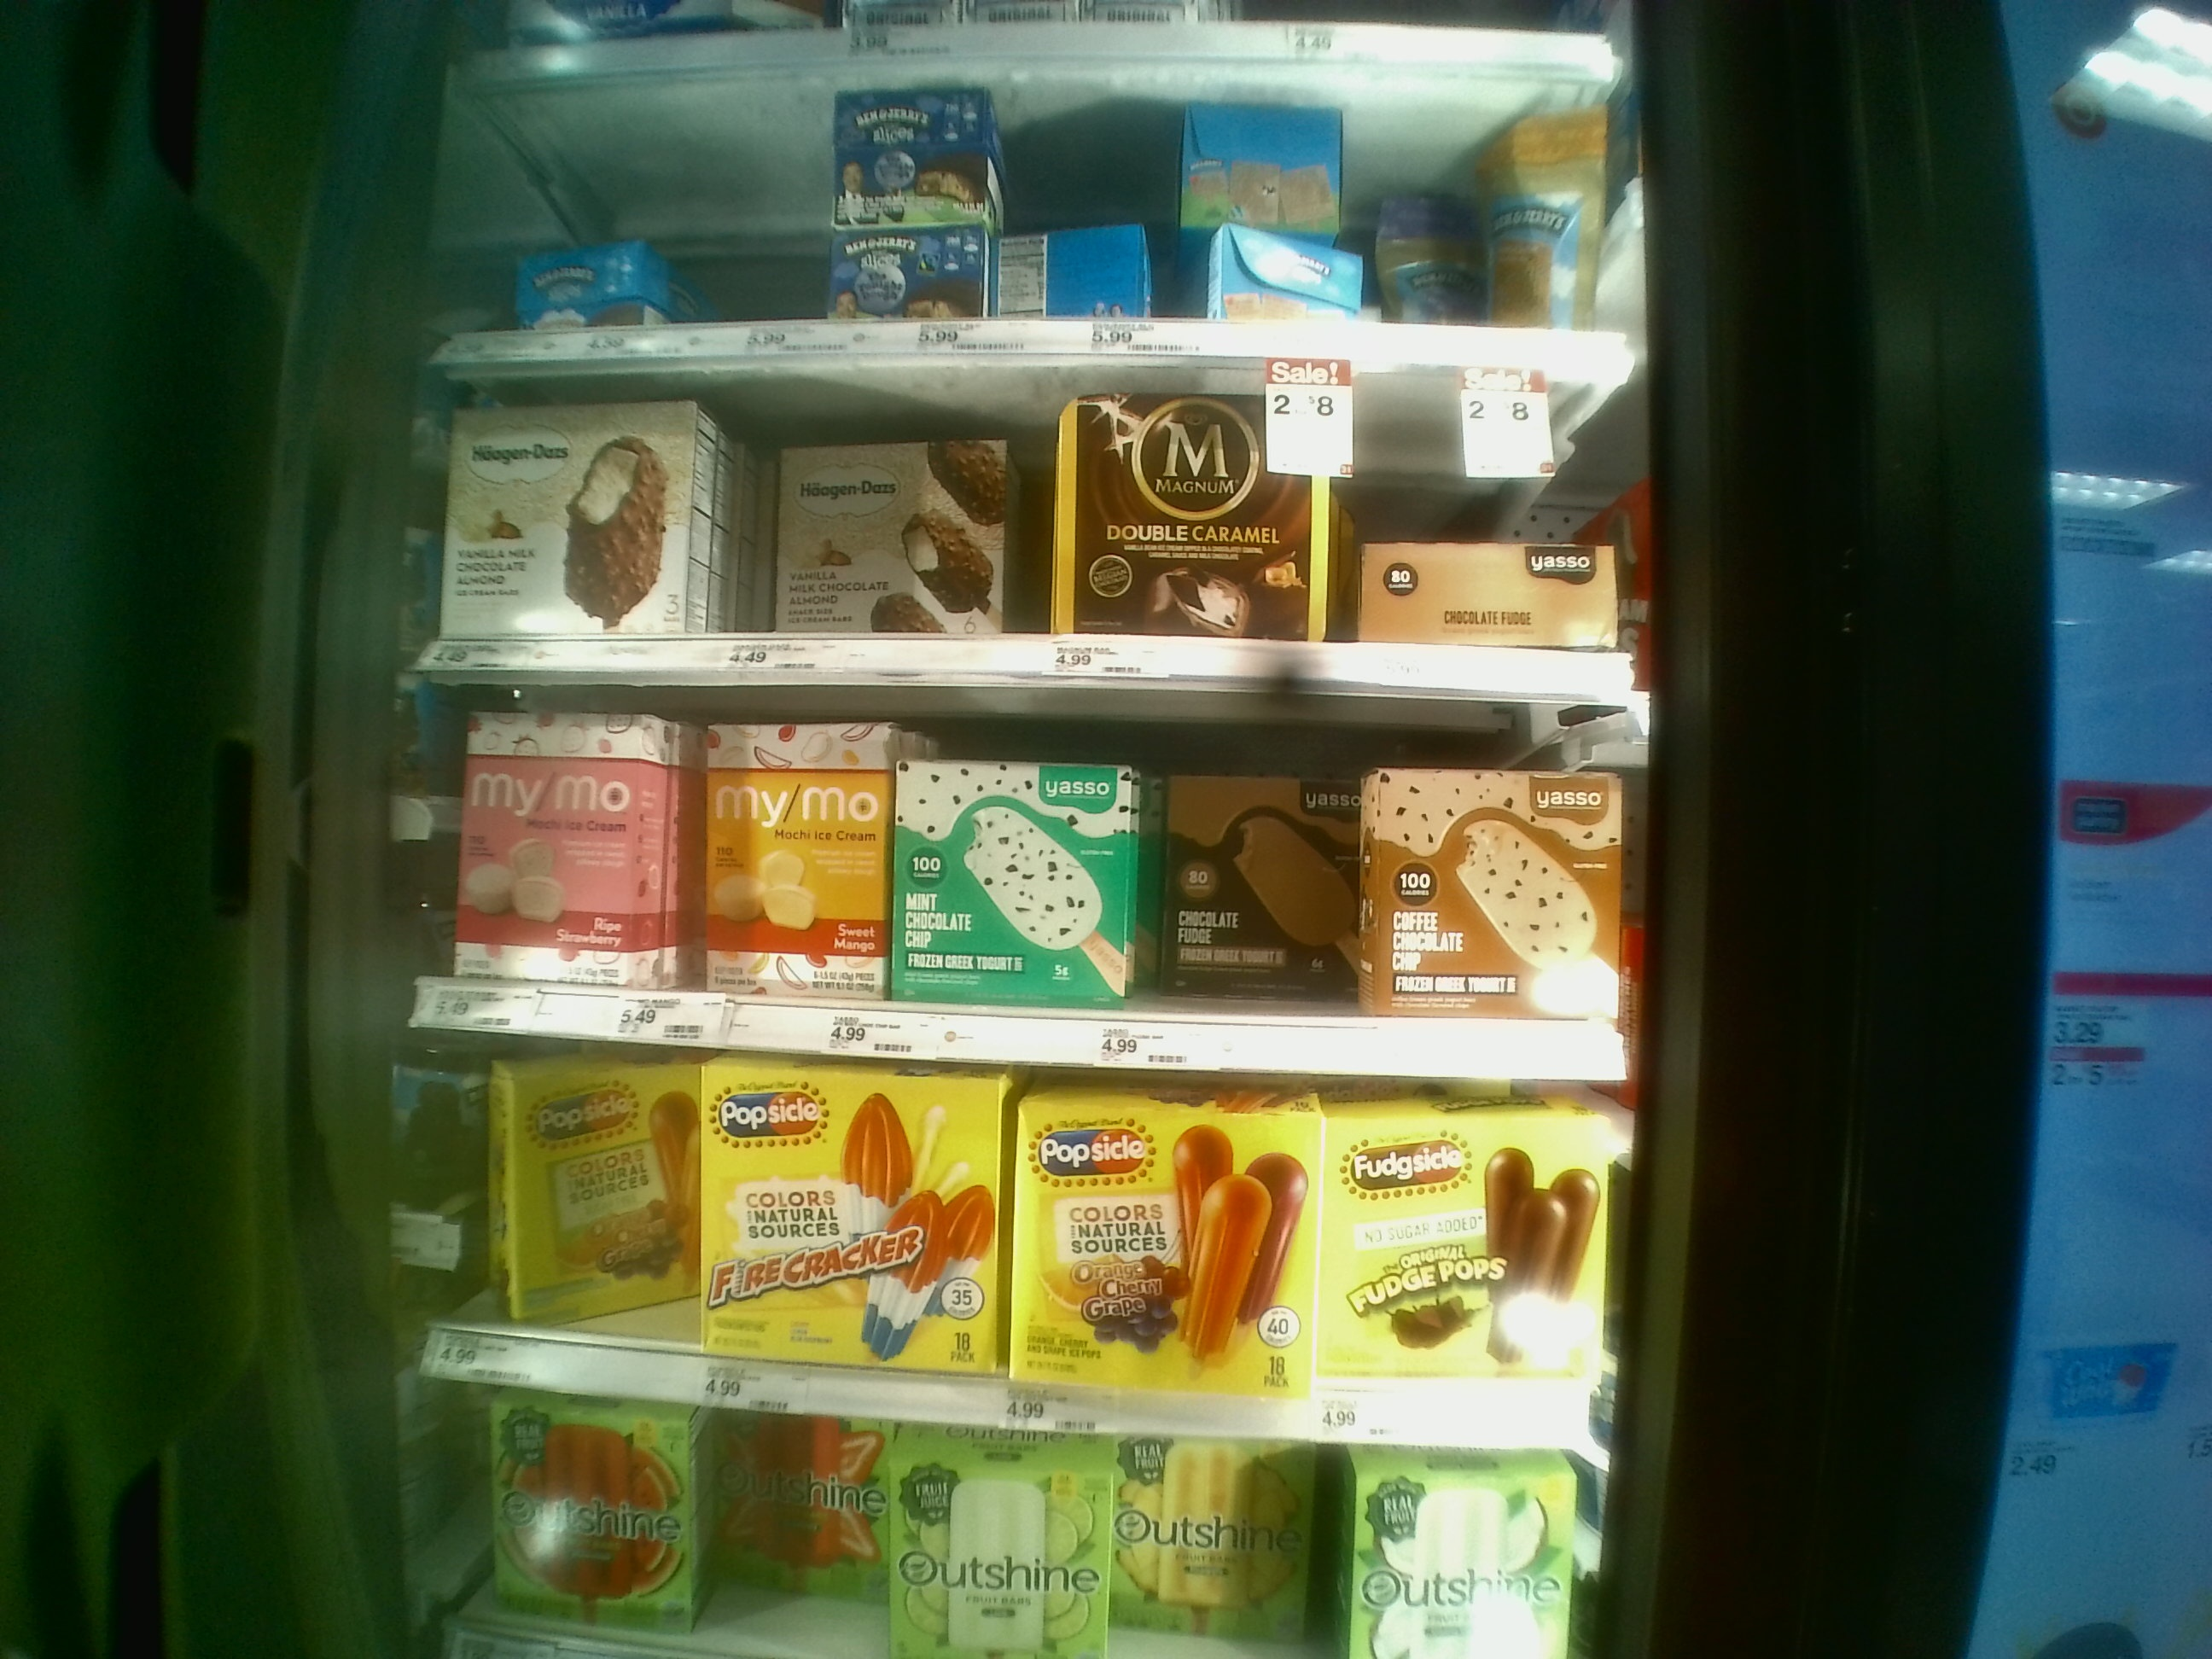shelf: (409, 678, 1634, 1053), (395, 1072, 1602, 1452), (420, 357, 1644, 676), (420, 77, 1646, 355)
